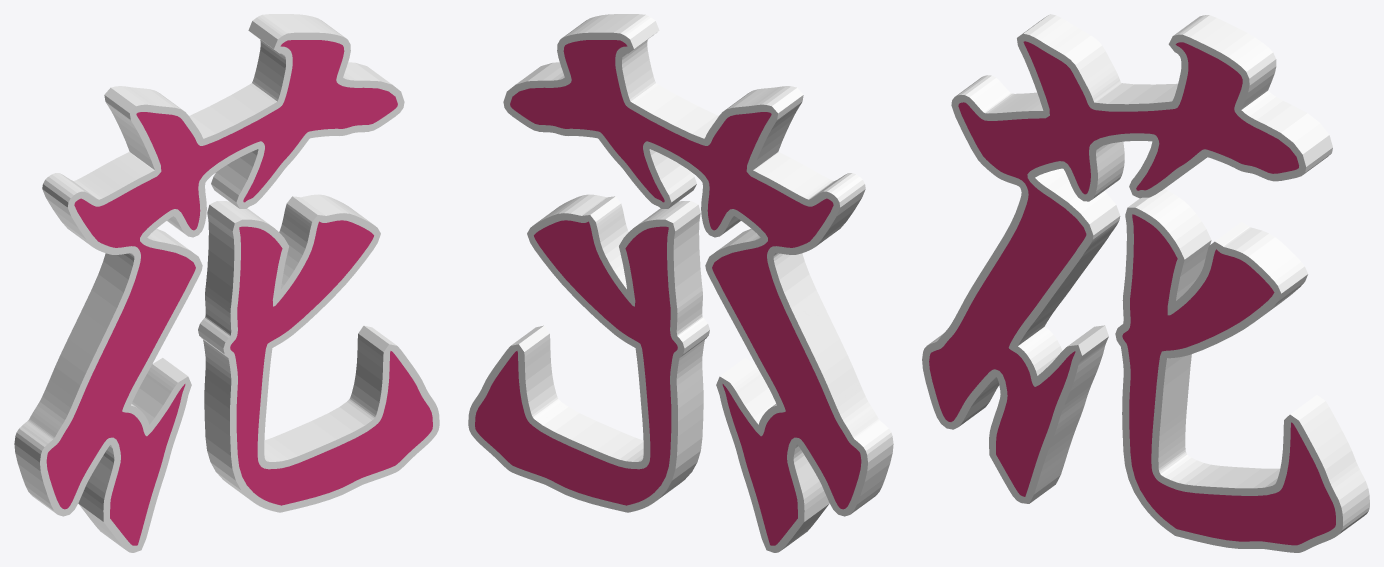
The model's file is model_hana.glb.
The picture shows the model from 3 angles, left to right: view 1: azimuth 30°, elevation 25°; view 2: azimuth 150°, elevation 25°; view 3: azimuth 330°, elevation 25°; orthographic projection. The views are drawn at different scales.
Parts seen in each view (by area): view 1: TraceGenius Object.002, TraceGenius Object.001; view 2: TraceGenius Object.002, TraceGenius Object.001; view 3: TraceGenius Object.002, TraceGenius Object.001.
Part boxes in pixels (x1,y1,x2,y2): TraceGenius Object.002: (14, 14, 439, 552); TraceGenius Object.001: (46, 40, 432, 545); TraceGenius Object.002: (468, 14, 893, 552); TraceGenius Object.001: (475, 40, 861, 545); TraceGenius Object.002: (922, 14, 1369, 552); TraceGenius Object.001: (929, 41, 1335, 545).
Size of the model in its own units: 2.99 by 3.44 by 0.33.
